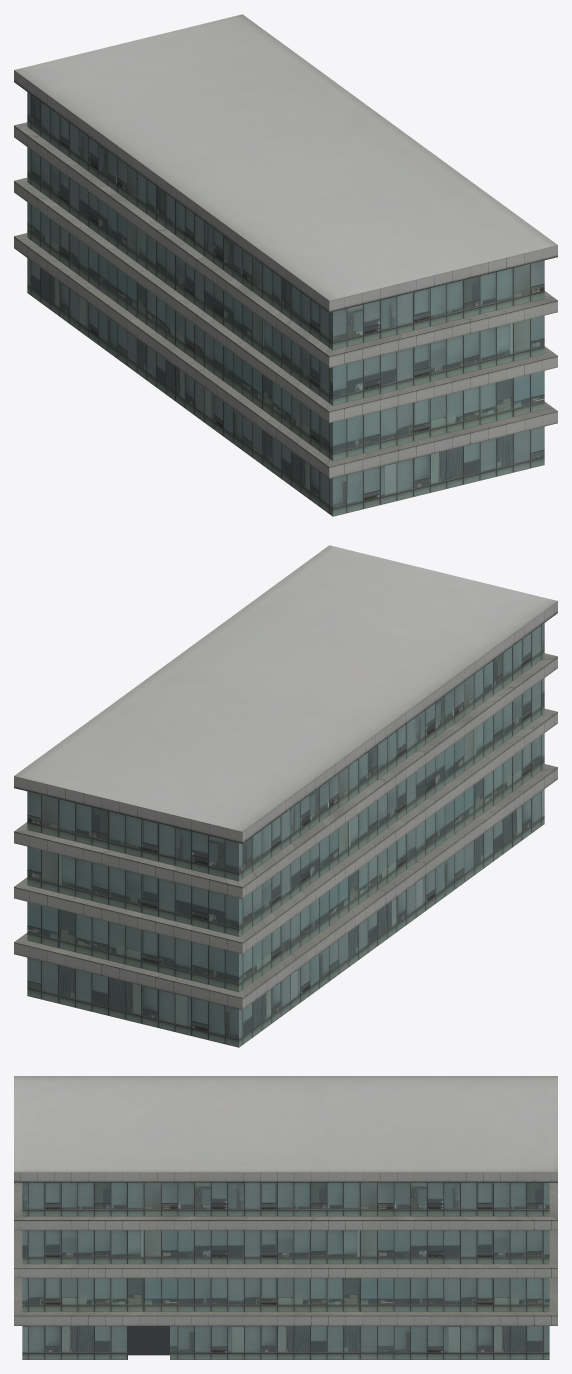
Rendered from office_building_2.glb.
3 renders of one model, top to bottom at view 1: azimuth 30°, elevation 25°; view 2: azimuth 150°, elevation 25°; view 3: azimuth 270°, elevation 25°, orthographic. The views are drawn at different scales.
Visible parts, largest first — view 1: Cube; view 2: Cube; view 3: Cube.
Boxes of the visible parts, x1,y1,x2,y2 form: Cube: (14, 14, 557, 516); Cube: (14, 545, 557, 1047); Cube: (14, 1076, 557, 1359).
Bounding box in the file's own units: 21.6 × 20 × 51.6.
Materials: 1 (1 with a texture image).
